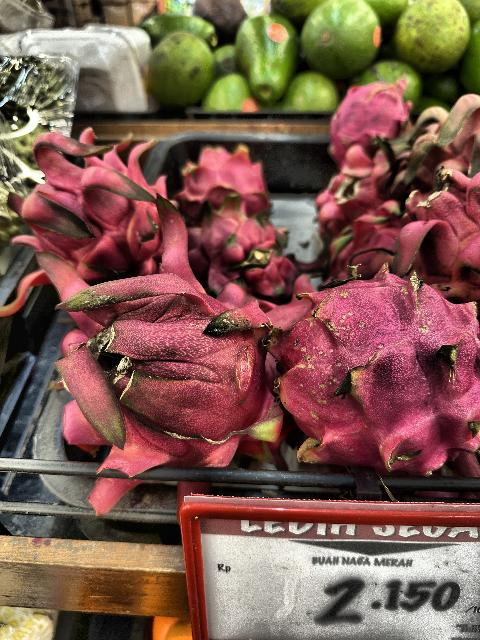buah-naga-matang: (47, 192, 289, 480), (250, 264, 480, 510), (0, 126, 166, 284), (358, 160, 480, 290), (184, 192, 298, 298), (170, 140, 282, 218), (322, 75, 411, 161), (316, 162, 380, 228)
